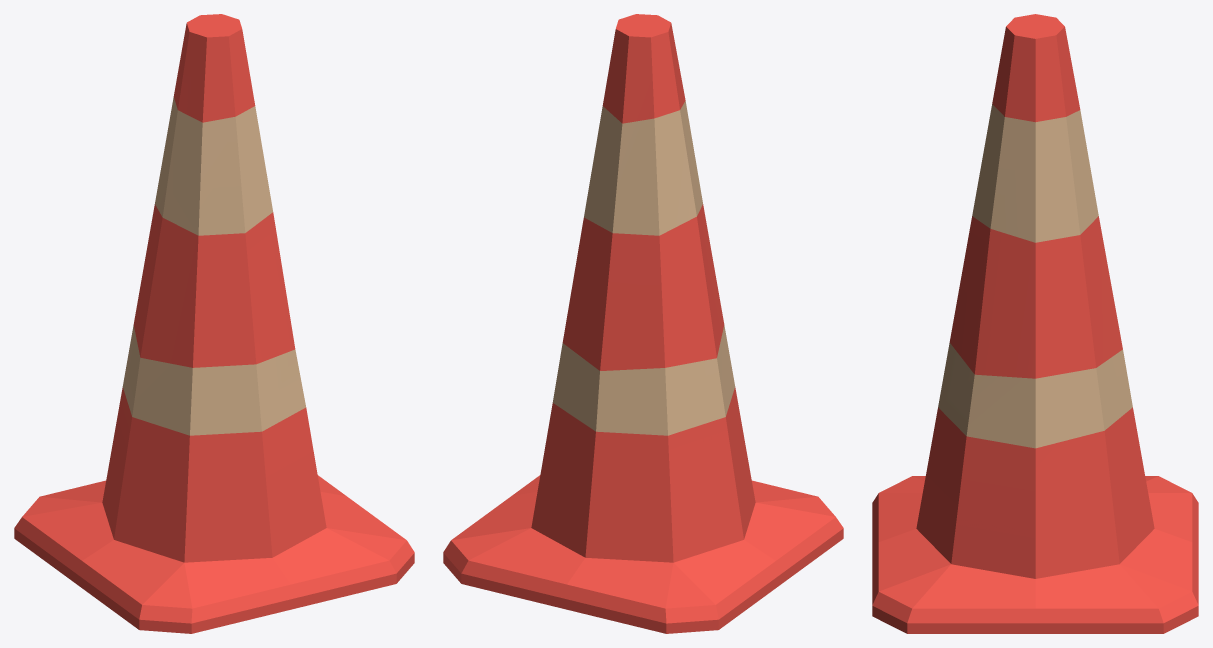
3 views of the same model, side by side, from view 1: azimuth 30°, elevation 25°; view 2: azimuth 150°, elevation 25°; view 3: azimuth 270°, elevation 25° (orthographic). The views are drawn at different scales.
Visible parts, largest first — view 1: SM_Prop_Cone_01; view 2: SM_Prop_Cone_01; view 3: SM_Prop_Cone_01.
Boxes of the visible parts, x1,y1,x2,y2 form: SM_Prop_Cone_01: (14, 14, 414, 633); SM_Prop_Cone_01: (443, 14, 843, 633); SM_Prop_Cone_01: (872, 14, 1198, 633).
Bounding box in the file's own units: 0.5251 × 0.9559 × 0.5251.
